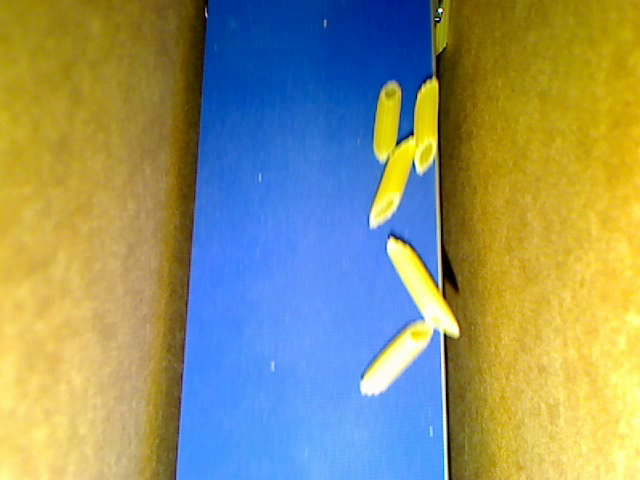penne: (385, 234, 460, 339), (359, 316, 439, 397), (363, 131, 420, 233), (368, 76, 400, 165), (414, 74, 441, 178), (432, 2, 453, 57)
